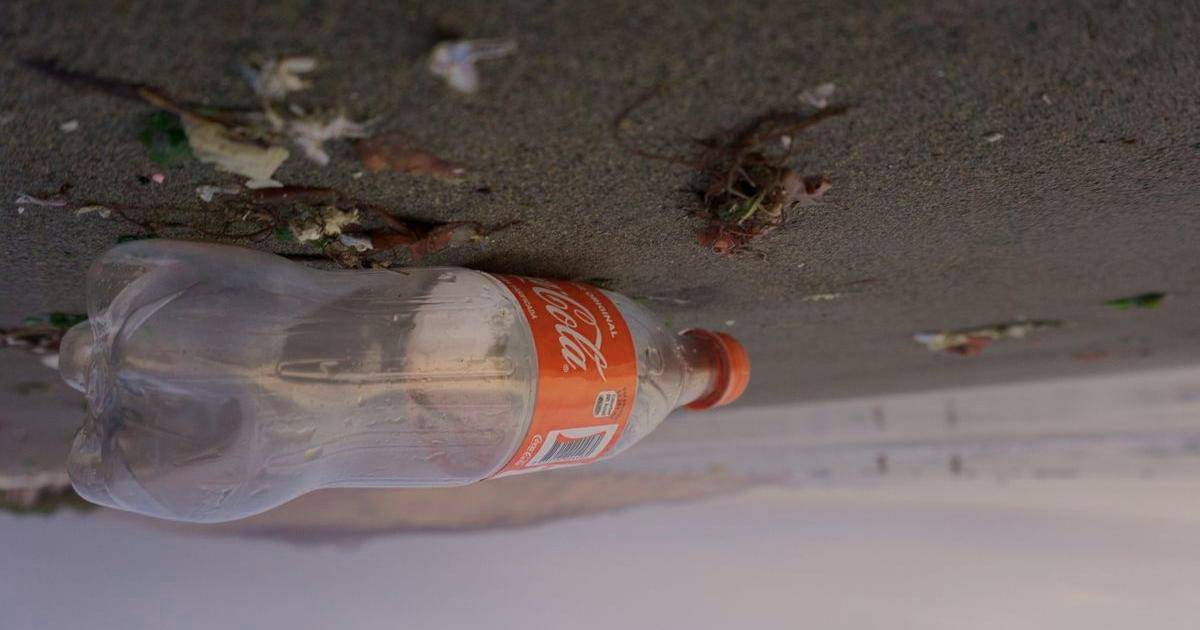Plastic: (56, 238, 749, 523)
